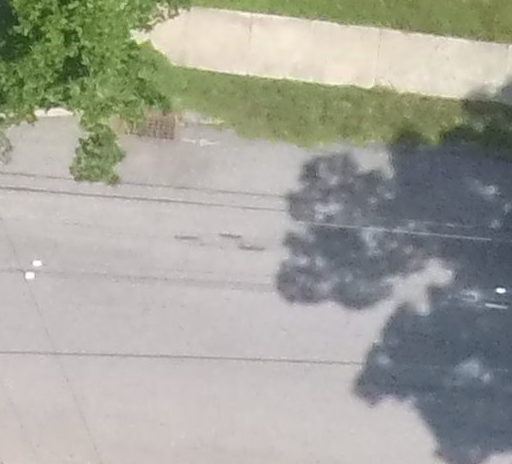drain: (116, 101, 186, 146)
